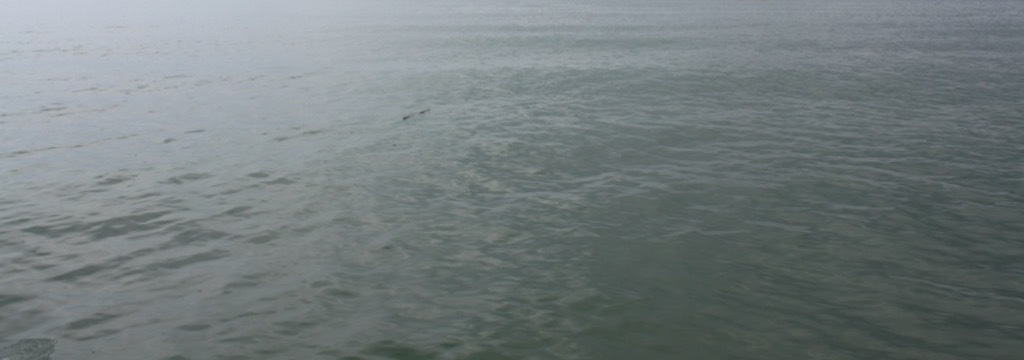organic: (398, 101, 435, 125)
